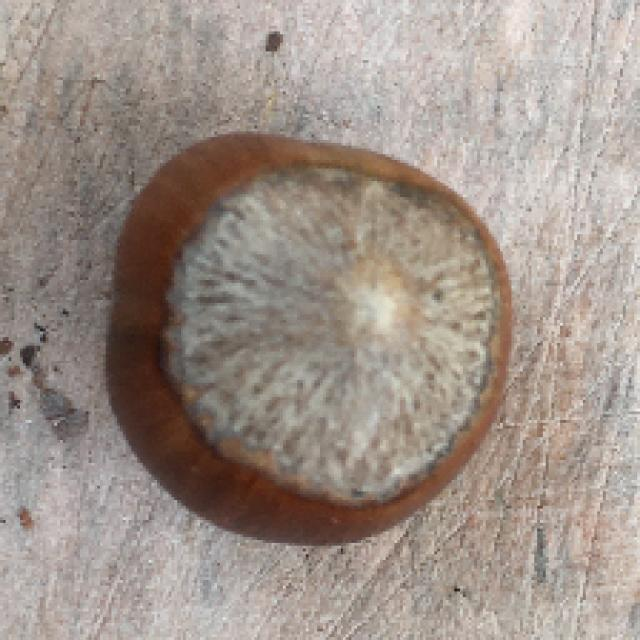damagedHazelnut: (100, 119, 520, 553)
